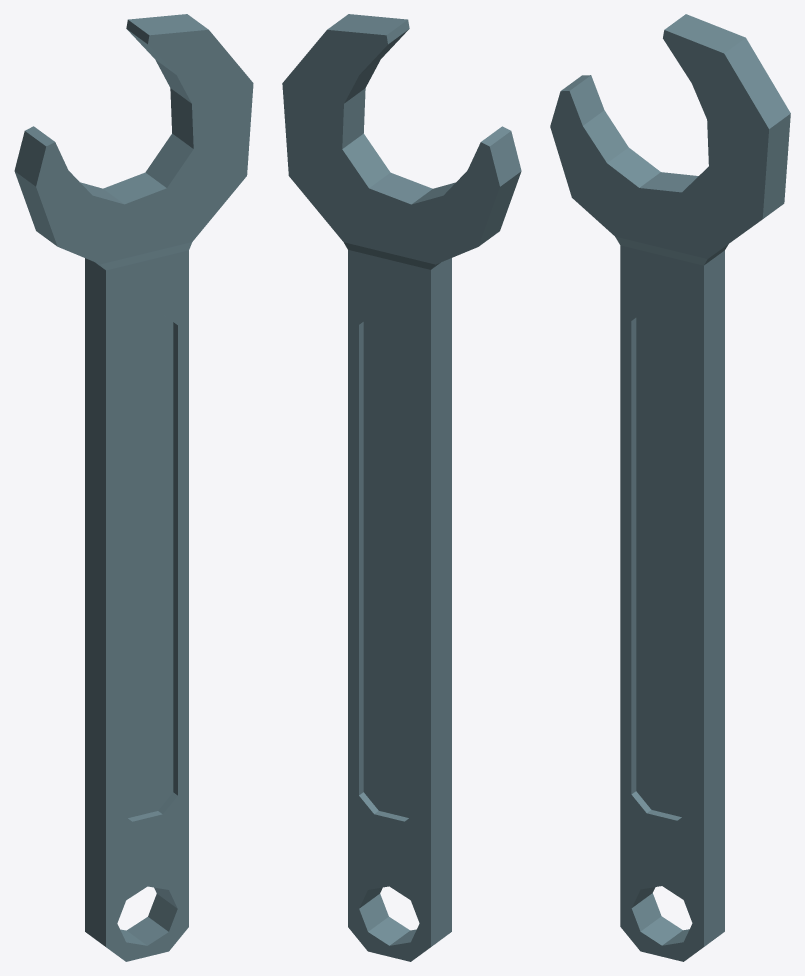
Rendered from wrench.fbx.
The picture shows the model from 3 angles, left to right: view 1: azimuth 30°, elevation 25°; view 2: azimuth 150°, elevation 25°; view 3: azimuth 330°, elevation 25°; orthographic projection.
Visible parts, largest first — view 1: wrench; view 2: wrench; view 3: wrench.
Part boxes in pixels (bbox=[...]): wrench: bbox=[14, 14, 253, 961]; wrench: bbox=[282, 14, 521, 961]; wrench: bbox=[550, 14, 790, 961].
Size of the model in its own units: 0.2944 by 1.19 by 0.051.
